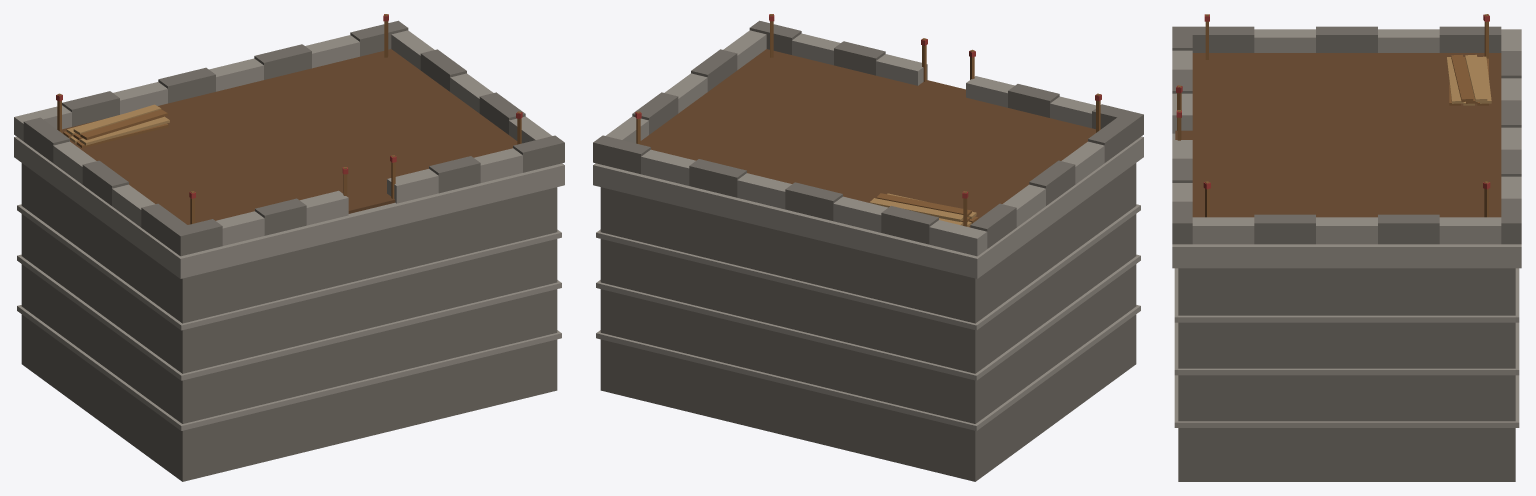
File: site_8x6_1.glb
3 renders of one model, left to right at view 1: azimuth 30°, elevation 25°; view 2: azimuth 150°, elevation 25°; view 3: azimuth 270°, elevation 25°, orthographic. The views are drawn at different scales.
Visible parts, largest first — view 1: site_8x6_1; view 2: site_8x6_1; view 3: site_8x6_1.
Boxes of the visible parts, left/top/right/bottom form: site_8x6_1: left=14, top=14, right=564, bottom=481; site_8x6_1: left=593, top=14, right=1143, bottom=481; site_8x6_1: left=1172, top=14, right=1521, bottom=481.
Bounding box in the file's own units: 8 × 5.45 × 6.
